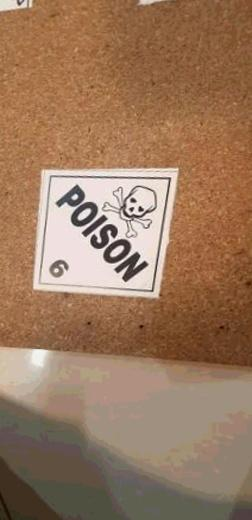poison: (38, 162, 181, 302)
